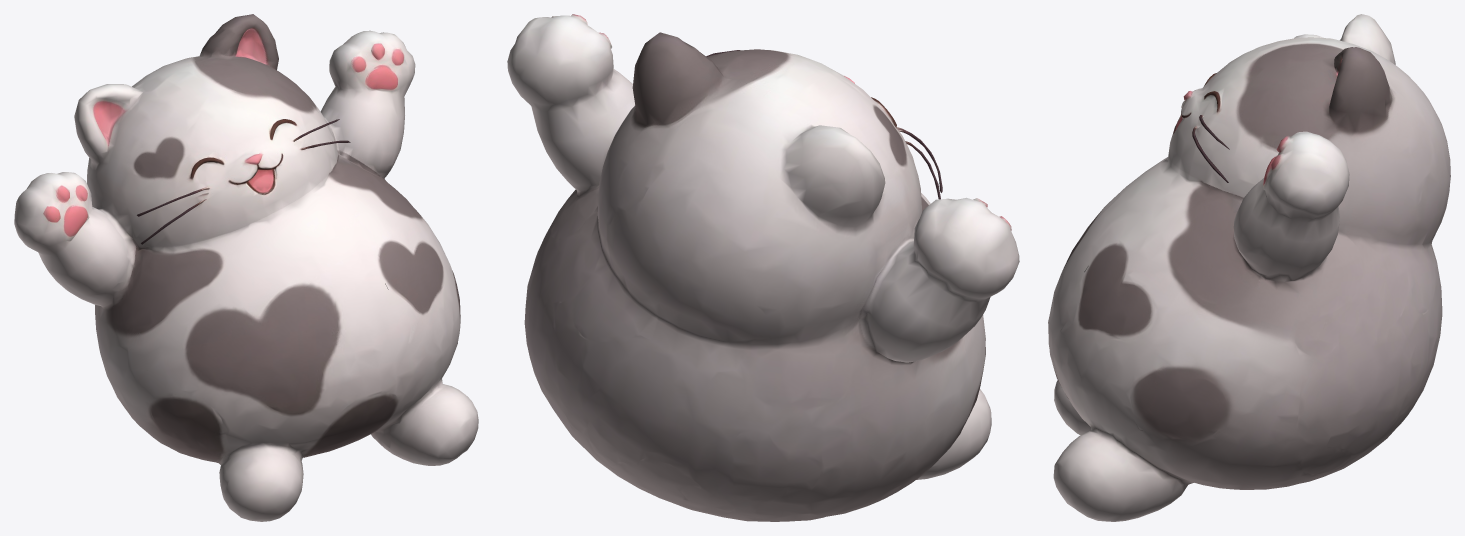
Rendered from nyanisyarud-suberi-cat.glb.
3 views of the same model, side by side, from view 1: azimuth 30°, elevation 25°; view 2: azimuth 150°, elevation 25°; view 3: azimuth 270°, elevation 25° (orthographic). The views are drawn at different scales.
Visible parts, largest first — view 1: tripo_node_89603cc0-d7a5-4245-bd82-8574072d9821; view 2: tripo_node_89603cc0-d7a5-4245-bd82-8574072d9821; view 3: tripo_node_89603cc0-d7a5-4245-bd82-8574072d9821.
Part boxes in pixels (x1,y1,x2,y2): tripo_node_89603cc0-d7a5-4245-bd82-8574072d9821: [14, 14, 478, 521]; tripo_node_89603cc0-d7a5-4245-bd82-8574072d9821: [507, 14, 1019, 521]; tripo_node_89603cc0-d7a5-4245-bd82-8574072d9821: [1048, 14, 1450, 521].
Bounding box in the file's own units: 0.9989 × 0.9705 × 0.8013.
Materials: 1 (1 with a texture image).
